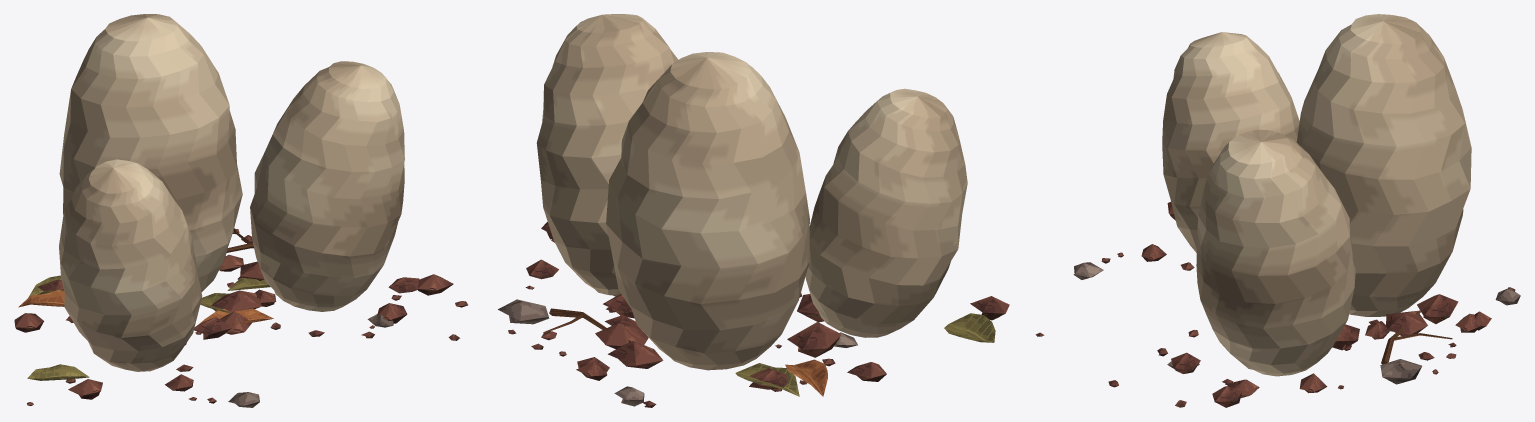
Rendered from SM_AN31_EggClutch.fbx.
3 views of the same model, side by side, from view 1: azimuth 30°, elevation 25°; view 2: azimuth 150°, elevation 25°; view 3: azimuth 270°, elevation 25° (orthographic). The views are drawn at different scales.
Visible parts, largest first — view 1: AN31b_Props; view 2: AN31b_Props; view 3: AN31b_Props.
Part boxes in pixels (<box>): AN31b_Props: <box>14,14,467,407</box>; AN31b_Props: <box>498,14,1044,407</box>; AN31b_Props: <box>1073,14,1520,407</box>.
Bounding box in the file's own units: 1.11 × 0.6679 × 0.9539.
